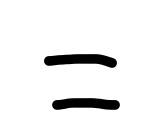eqv: (45, 53, 120, 110)
